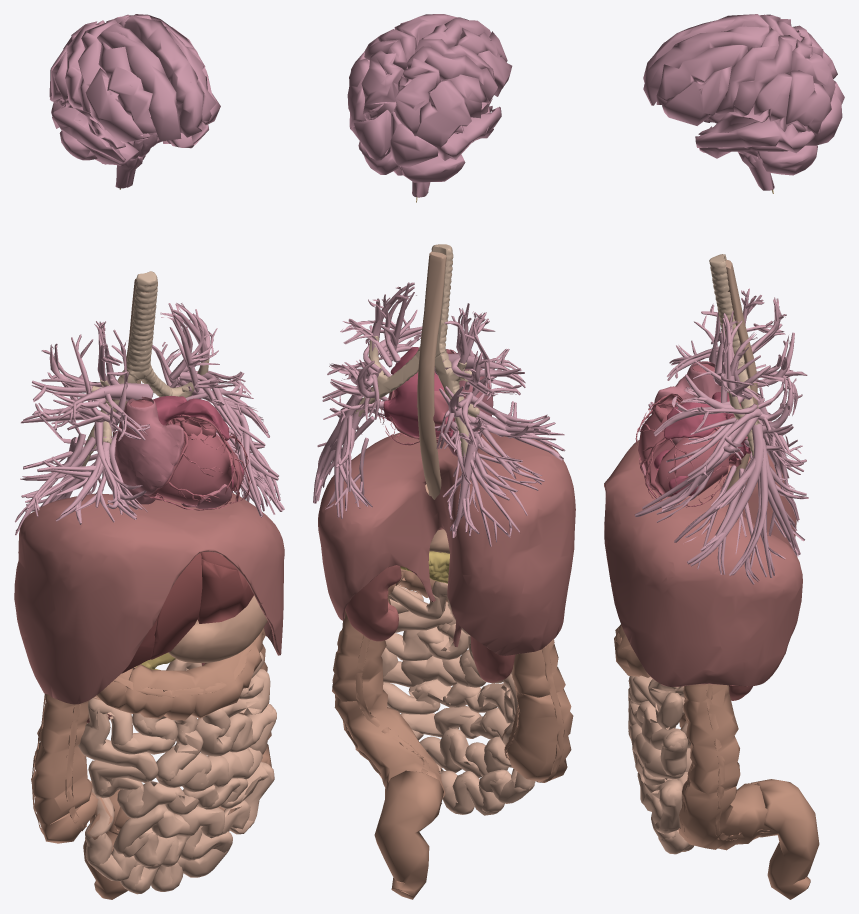
File: anatomy-organs.glb
3 renders of one model, left to right at view 1: azimuth 30°, elevation 25°; view 2: azimuth 150°, elevation 25°; view 3: azimuth 270°, elevation 25°, orthographic. The views are drawn at different scales.
Parts seen in each view (by area): view 1: diaphragm, small-intestine, brain, large-intestine, right-bronchial-tree, left-bronchial-tree, liver, heart-vessels, right-atrium, trachea, stomach, left-atrium (+1 smaller); view 2: diaphragm, large-intestine, brain, small-intestine, right-bronchial-tree, left-bronchial-tree, esophagus, trachea, left-kidney, left-atrium, right-kidney, heart-vessels (+1 smaller); view 3: diaphragm, brain, large-intestine, left-bronchial-tree, small-intestine, right-bronchial-tree, heart-vessels, trachea, left-atrium, esophagus, right-atrium.
Part boxes in pixels (box(x1,y1,x2,y2)): diaphragm: box(14, 493, 284, 704); small-intestine: box(78, 652, 276, 894); brain: box(49, 14, 220, 188); large-intestine: box(31, 628, 271, 899); right-bronchial-tree: box(15, 321, 153, 535); left-bronchial-tree: box(152, 303, 284, 517); liver: box(121, 552, 253, 673); heart-vessels: box(112, 399, 251, 510); right-atrium: box(115, 396, 184, 504); trachea: box(82, 271, 209, 466); stomach: box(168, 595, 267, 662); left-atrium: box(119, 396, 229, 440); diaphragm: box(318, 432, 575, 655); large-intestine: box(332, 569, 573, 899); brain: box(347, 14, 512, 197); small-intestine: box(381, 581, 535, 815); right-bronchial-tree: box(434, 303, 565, 546); left-bronchial-tree: box(313, 282, 422, 518); esophagus: box(417, 251, 446, 499); trachea: box(354, 244, 479, 456); left-kidney: box(345, 565, 401, 641); left-atrium: box(383, 347, 454, 436); right-kidney: box(470, 636, 515, 682); heart-vessels: box(379, 349, 466, 445); diaphragm: box(604, 440, 802, 686); brain: box(643, 14, 844, 190); large-intestine: box(614, 624, 819, 899); left-bronchial-tree: box(634, 311, 808, 584); small-intestine: box(628, 675, 693, 854); right-bronchial-tree: box(639, 288, 807, 494); heart-vessels: box(635, 364, 746, 507); trachea: box(709, 254, 760, 456); left-atrium: box(664, 392, 750, 461); esophagus: box(723, 260, 757, 490); right-atrium: box(651, 361, 721, 414).
Bounding box in the file's own units: 1.26 × 4.35 × 1.09.
